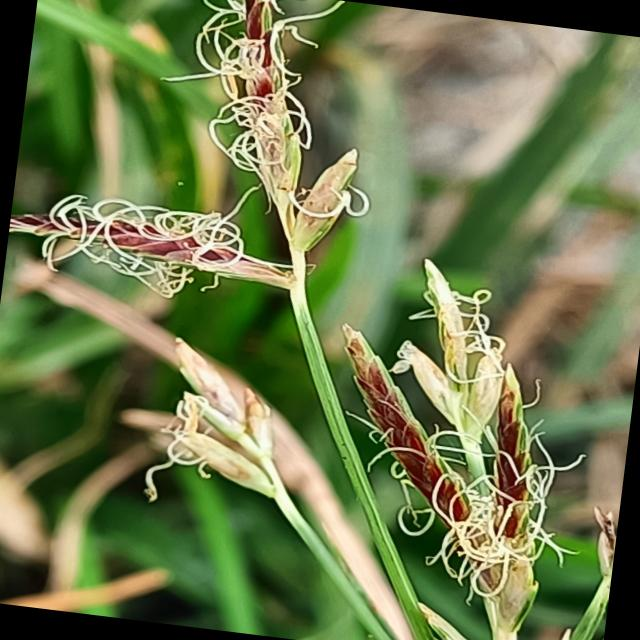cyperus: (0, 0, 640, 623), (293, 252, 618, 617), (23, 0, 393, 304)
